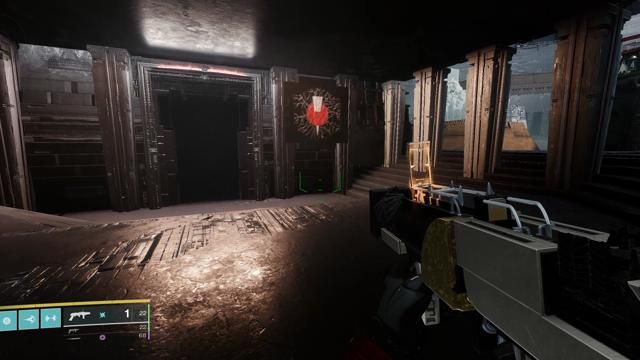kill: (293, 87, 341, 140)
